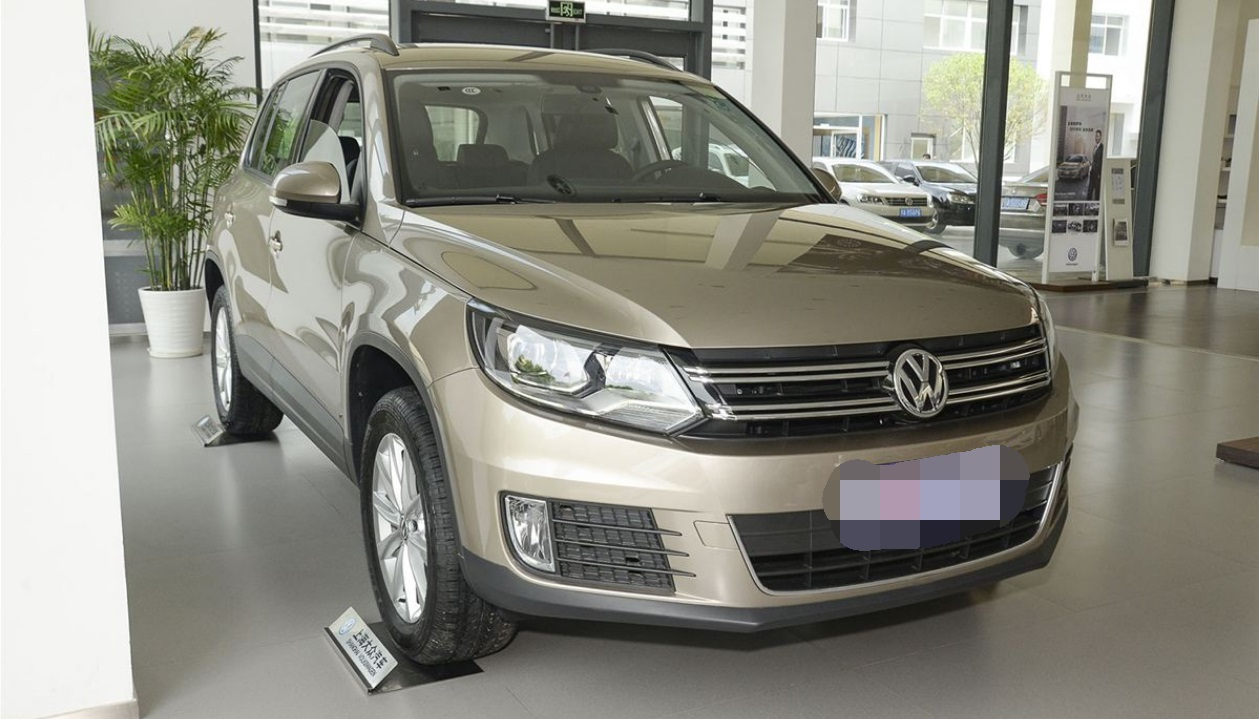SUV: (196, 30, 1082, 671)
